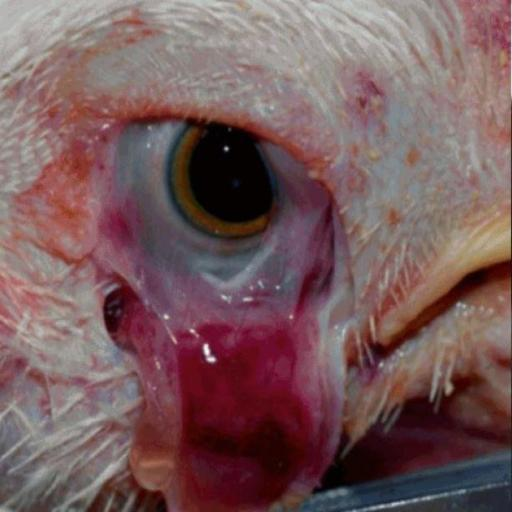disease: (34, 60, 438, 512)
